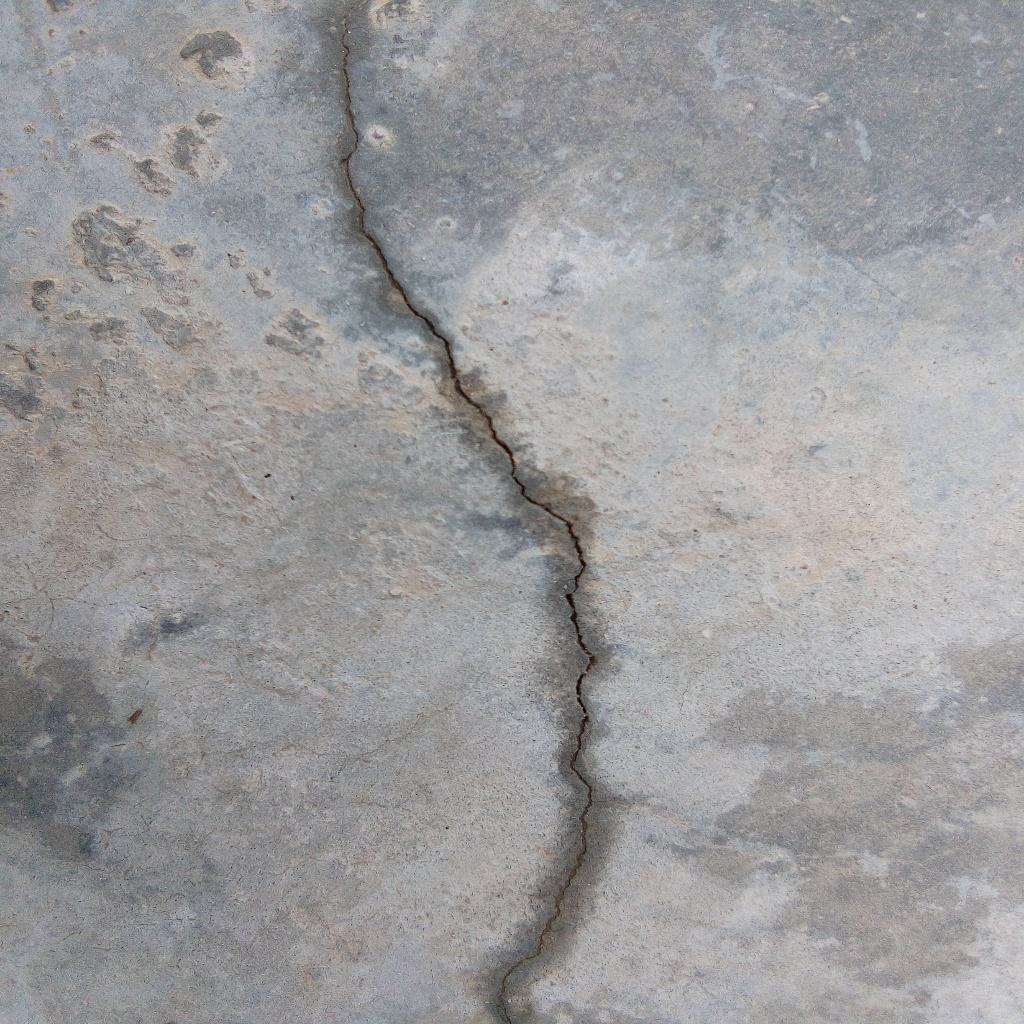Crack: (343, 1, 600, 1024)
